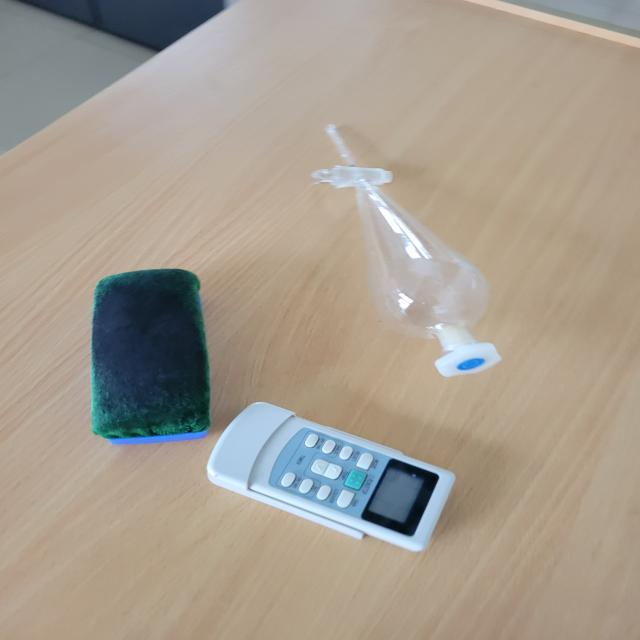Separating_Funnel: (278, 94, 550, 410)
